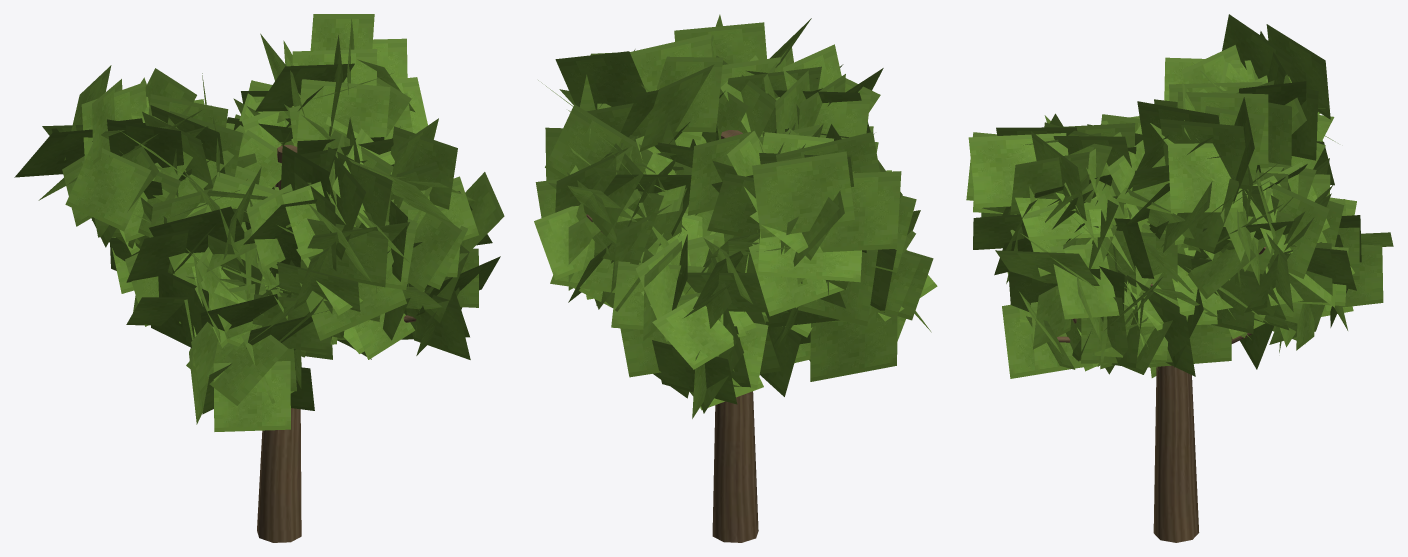
3 renders of one model, left to right at view 1: azimuth 30°, elevation 25°; view 2: azimuth 150°, elevation 25°; view 3: azimuth 270°, elevation 25°, orthographic. The views are drawn at different scales.
Visible parts, largest first — view 1: oak-leaf, oak-bark; view 2: oak-leaf, oak-bark; view 3: oak-leaf, oak-bark.
Part boxes in pixels (x1,y1,x2,y2): oak-leaf: (14,14,504,431); oak-bark: (257,145,416,542); oak-leaf: (534,14,937,418); oak-bark: (586,130,758,542); oak-leaf: (966,14,1393,378); oak-bark: (1057,247,1265,542).
Size of the model in its own units: 7.81 by 9.57 by 7.88.
2 materials, 2 textured.
